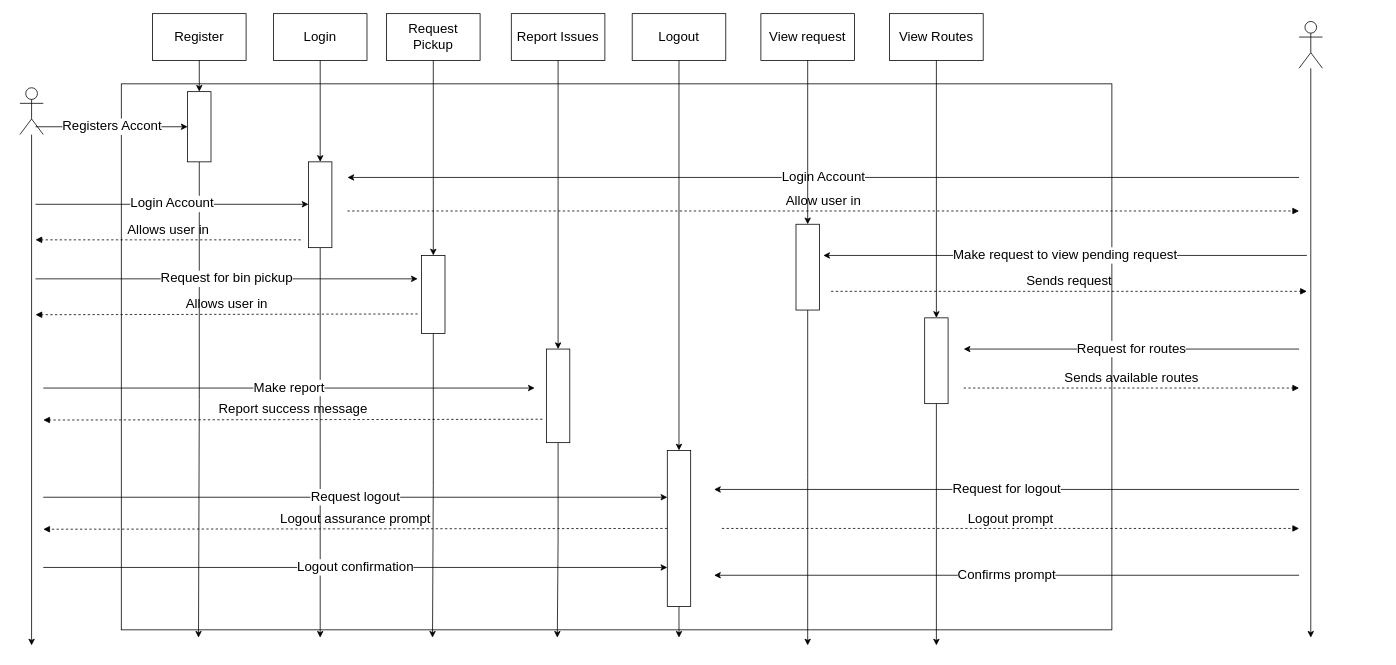
Some shapes in this 1396 by 665 pixel diagram are drawn without their labels. Each missing label, with the box of its shape:
Resident: (19, 87, 43, 135)
Waste Agency/Individual: (1298, 21, 1322, 68)
